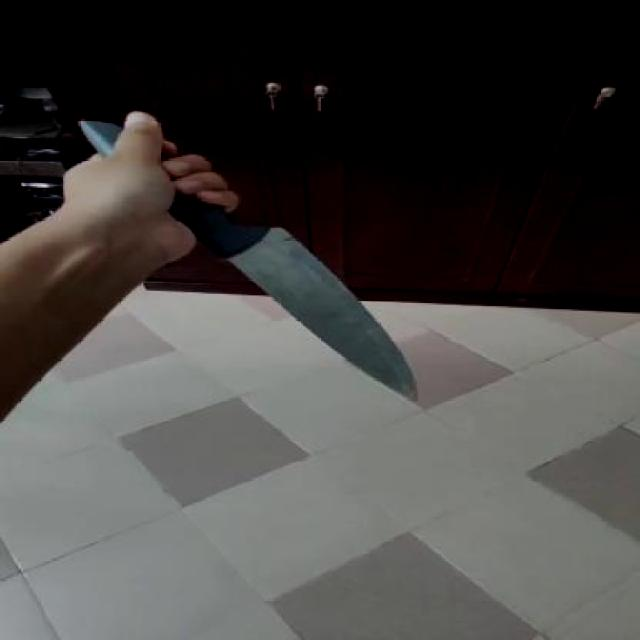knife: (200, 214, 495, 409)
